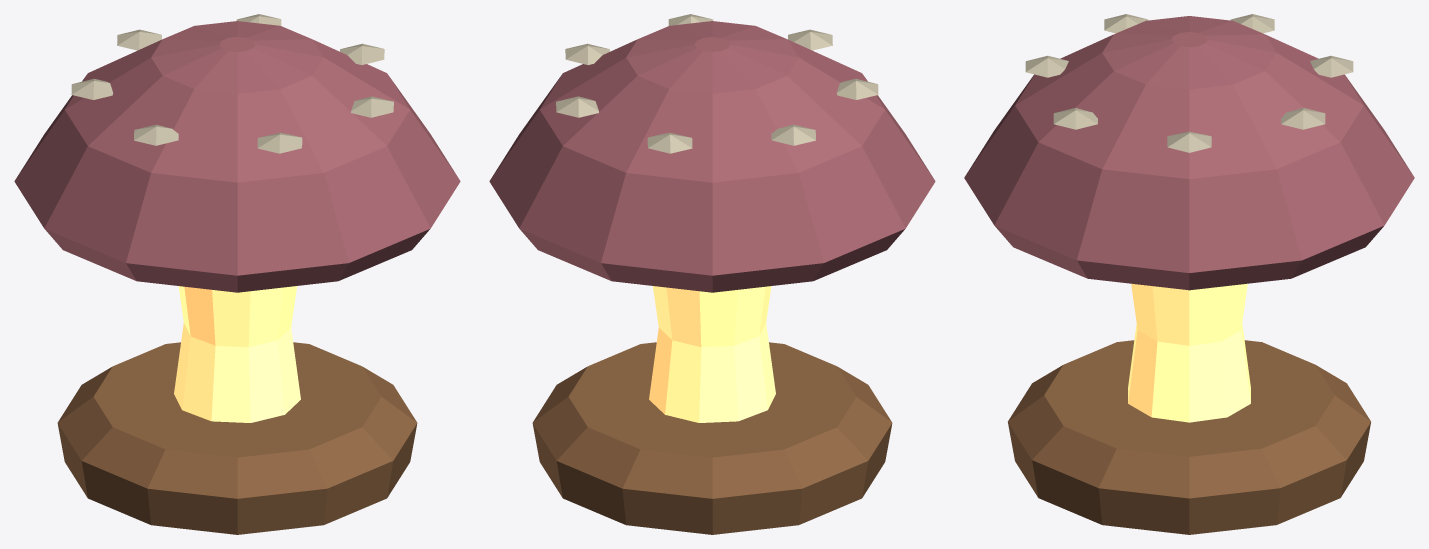
File: decor_mushroom_lamp.glb
The picture shows the model from 3 angles, left to right: view 1: azimuth 30°, elevation 25°; view 2: azimuth 150°, elevation 25°; view 3: azimuth 270°, elevation 25°; orthographic projection.
Parts seen in each view (by area): view 1: geometry, light; view 2: geometry, light; view 3: geometry, light.
Boxes of the visible parts, x1,y1,x2,y2 form: geometry: [14, 14, 460, 534]; light: [174, 286, 300, 422]; geometry: [489, 14, 935, 534]; light: [649, 286, 775, 422]; geometry: [964, 14, 1414, 534]; light: [1128, 283, 1250, 422].
Size of the model in its own units: 0.62 by 0.64 by 0.62.
